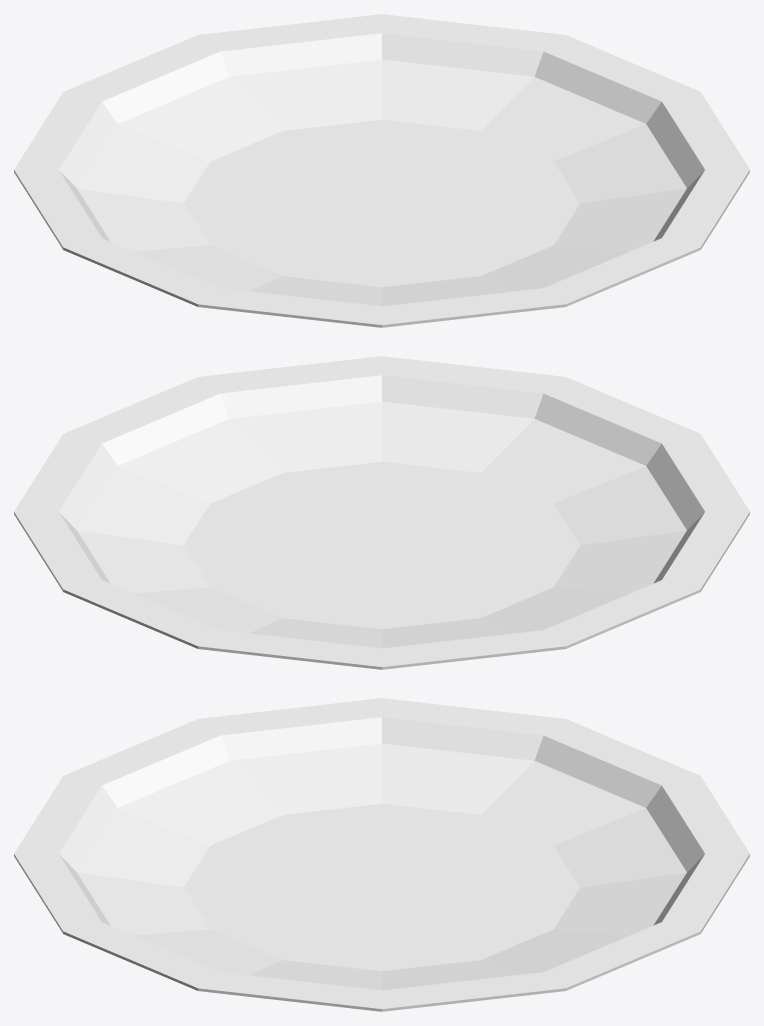
The model's file is Plate_02.fbx.
3 views of the same model, one above another, from view 1: azimuth 30°, elevation 25°; view 2: azimuth 150°, elevation 25°; view 3: azimuth 270°, elevation 25° (orthographic).
Parts seen in each view (by area): view 1: Plate_02; view 2: Plate_02; view 3: Plate_02.
Boxes of the visible parts, box(x1,y1,x2,y2) form: Plate_02: box(14, 14, 749, 327); Plate_02: box(14, 356, 749, 669); Plate_02: box(14, 698, 749, 1011).
Size of the model in its own units: 24.53 by 1.34 by 24.53.
